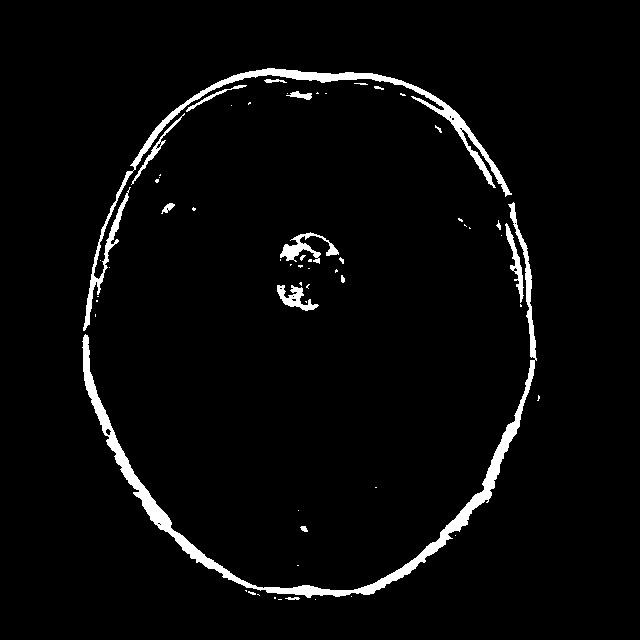Brain-Tumor: (265, 212, 356, 321)
